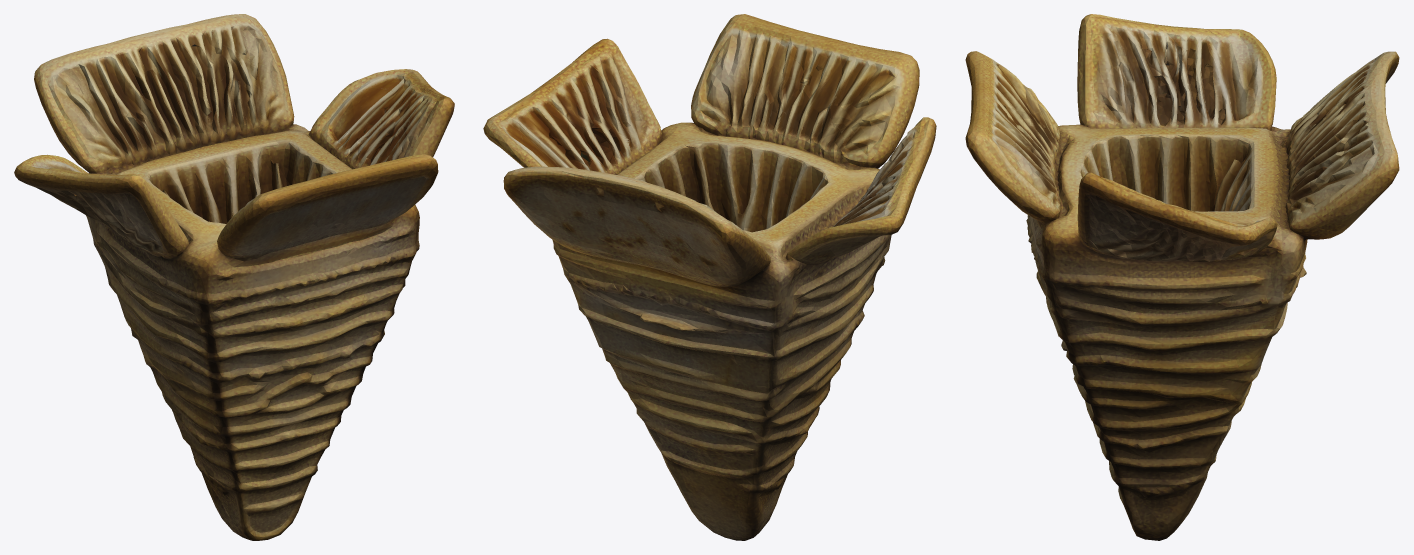
3 renders of one model, left to right at view 1: azimuth 30°, elevation 25°; view 2: azimuth 150°, elevation 25°; view 3: azimuth 270°, elevation 25°, orthographic. The views are drawn at different scales.
Parts seen in each view (by area): view 1: world; view 2: world; view 3: world.
Boxes of the visible parts, <box> form: world: <box>14,14,454,540</box>; world: <box>483,14,936,540</box>; world: <box>965,14,1399,540</box>.
Size of the model in its own units: 0.1124 by 0.1133 by 0.1005.
Materials: 1 (1 with a texture image).
